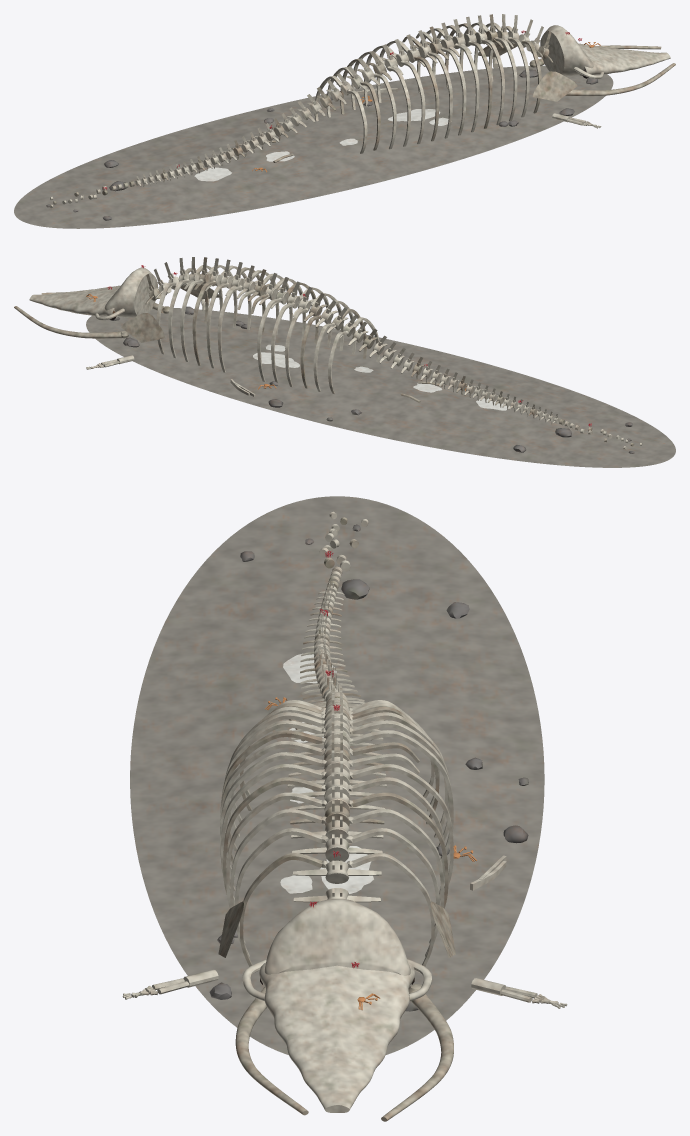
Rendered from SM_WhaleSkeleton.fbx.
3 renders of one model, top to bottom at view 1: azimuth 30°, elevation 25°; view 2: azimuth 150°, elevation 25°; view 3: azimuth 270°, elevation 25°, orthographic. The views are drawn at different scales.
Parts seen in each view (by area): view 1: SM_WhaleSkeleton; view 2: SM_WhaleSkeleton; view 3: SM_WhaleSkeleton.
Part boxes in pixels (bbox=[...]): SM_WhaleSkeleton: bbox=[14, 14, 675, 228]; SM_WhaleSkeleton: bbox=[14, 257, 675, 467]; SM_WhaleSkeleton: bbox=[122, 496, 567, 1121].
Size of the model in its own units: 24.43 by 3.45 by 7.29.
Materials: 1 (1 with a texture image).
